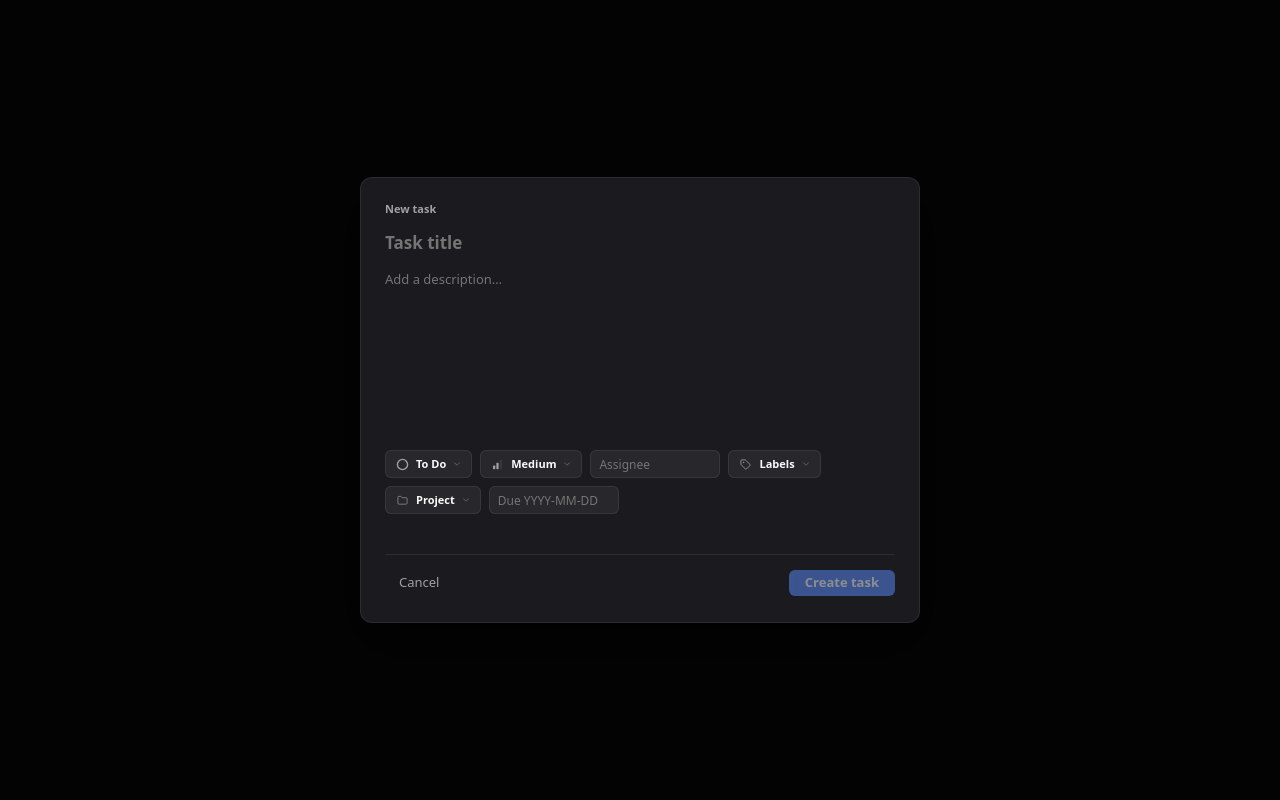
Scenario: CreateTicketModal - Form & Behavioral Tests › disables "Create task" button until title is entered
Expected: the button "Create task" is disabled, left=789, top=570, right=895, bottom=596
Type "Fix PTY resize" into the field with placeholder "Task title" at [640, 243], box left=385, top=232, right=895, bottom=254
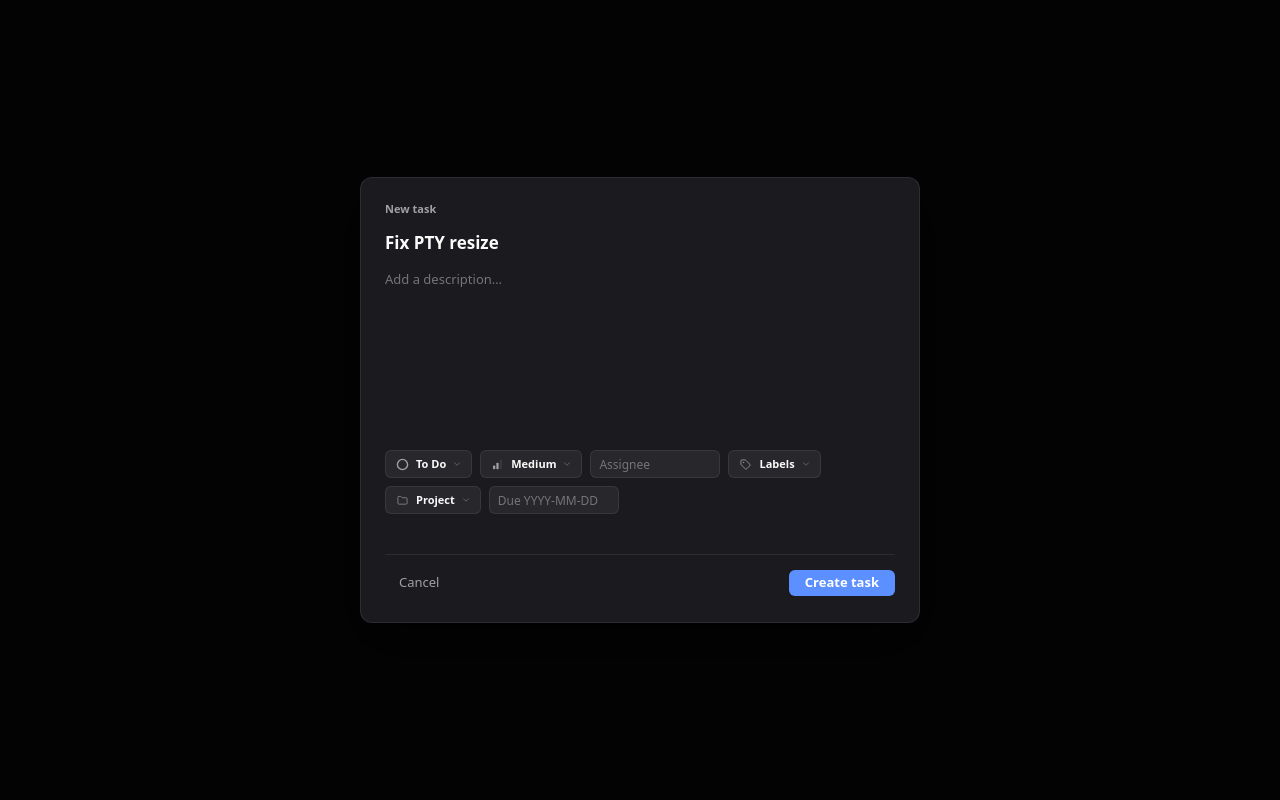
Expected: the button "Create task" is enabled, left=789, top=570, right=895, bottom=596
